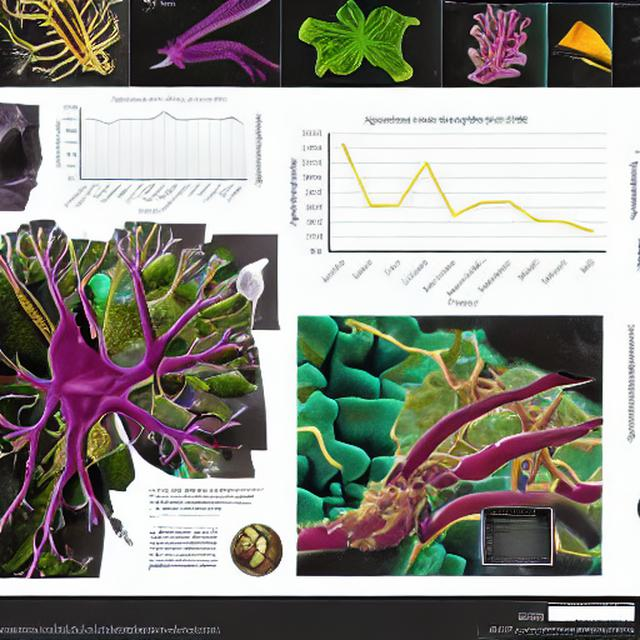Graph: (280, 109, 611, 308), (50, 93, 252, 214), (487, 525, 551, 564)
